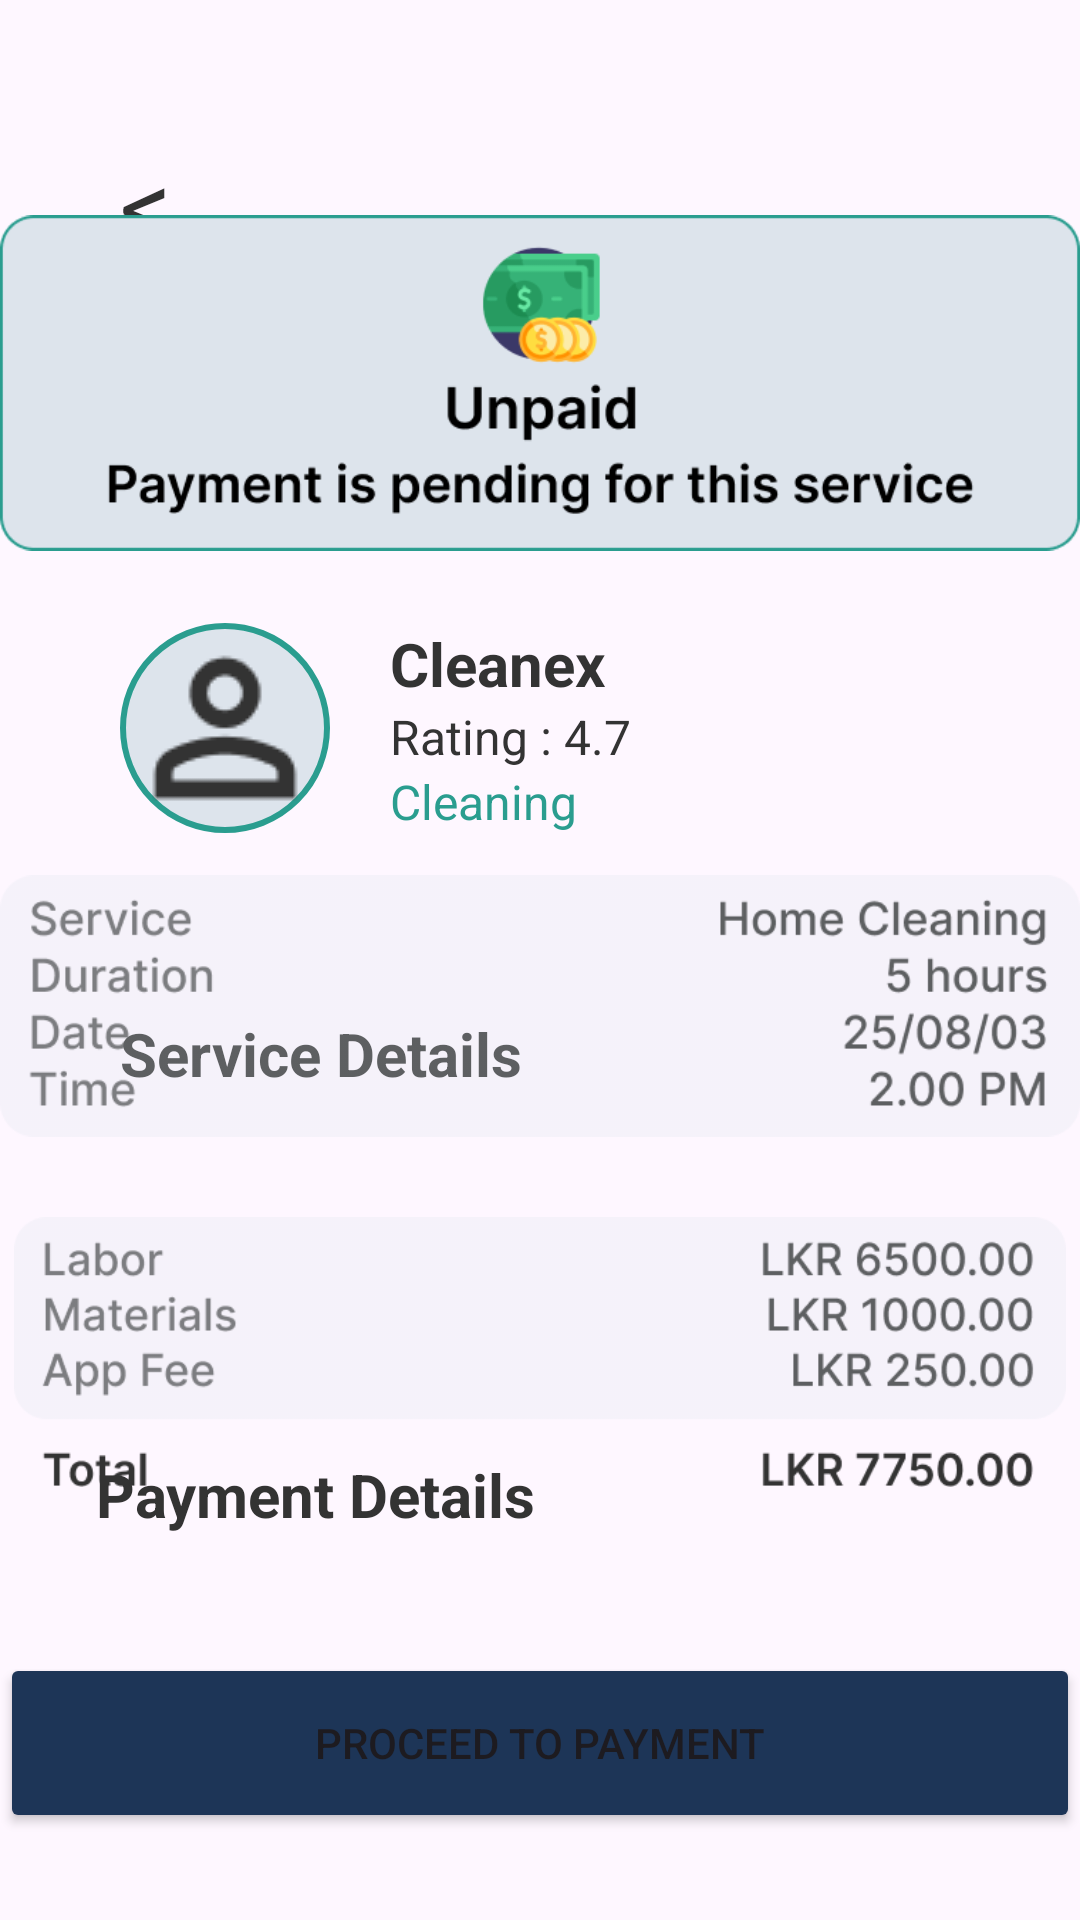

Screen size 1080w x 1920h. Icon name, then its center in pixels as point (x, y):
person1: point (225, 728)
